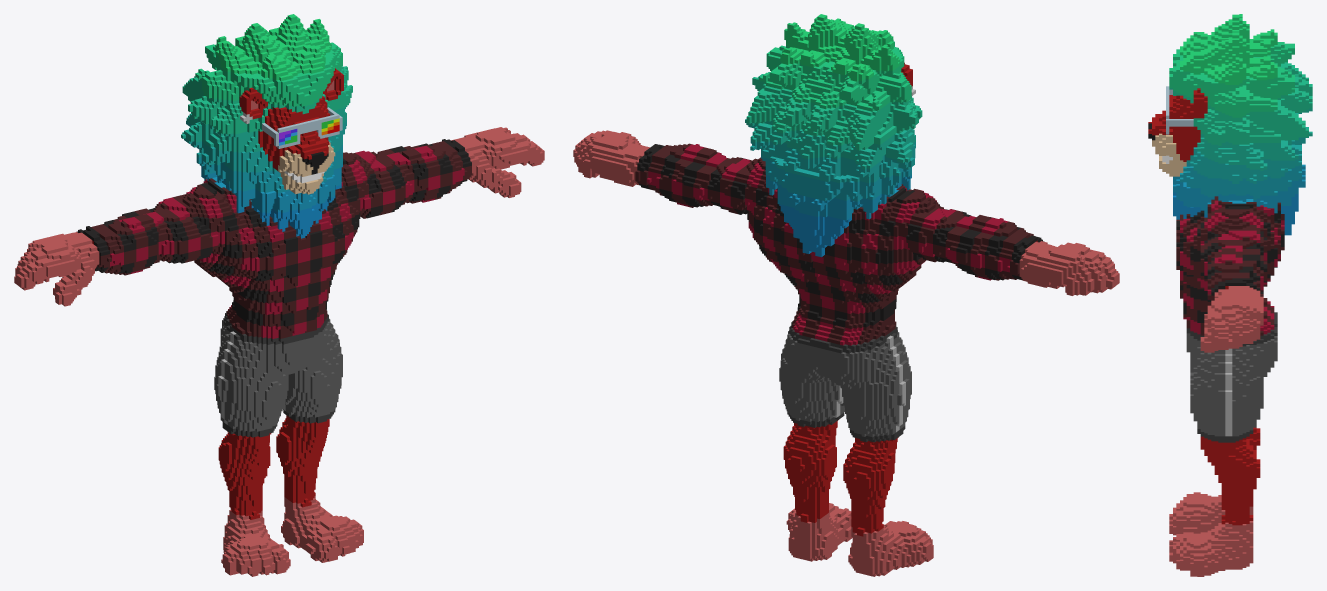
Rendered from 405-CIrOvtpy.fbx.
The picture shows the model from 3 angles, left to right: view 1: azimuth 30°, elevation 25°; view 2: azimuth 150°, elevation 25°; view 3: azimuth 270°, elevation 25°; orthographic projection. The views are drawn at different scales.
Parts seen in each view (by area): view 1: big_smile; view 2: big_smile; view 3: big_smile.
Part boxes in pixels (box(x1,y1,x2,y2)): big_smile: box(14, 14, 544, 576); big_smile: box(573, 14, 1119, 576); big_smile: box(1148, 14, 1312, 576).
Size of the model in its own units: 17.2 by 16.5 by 4.7.
Materials: 6 (6 with a texture image).
